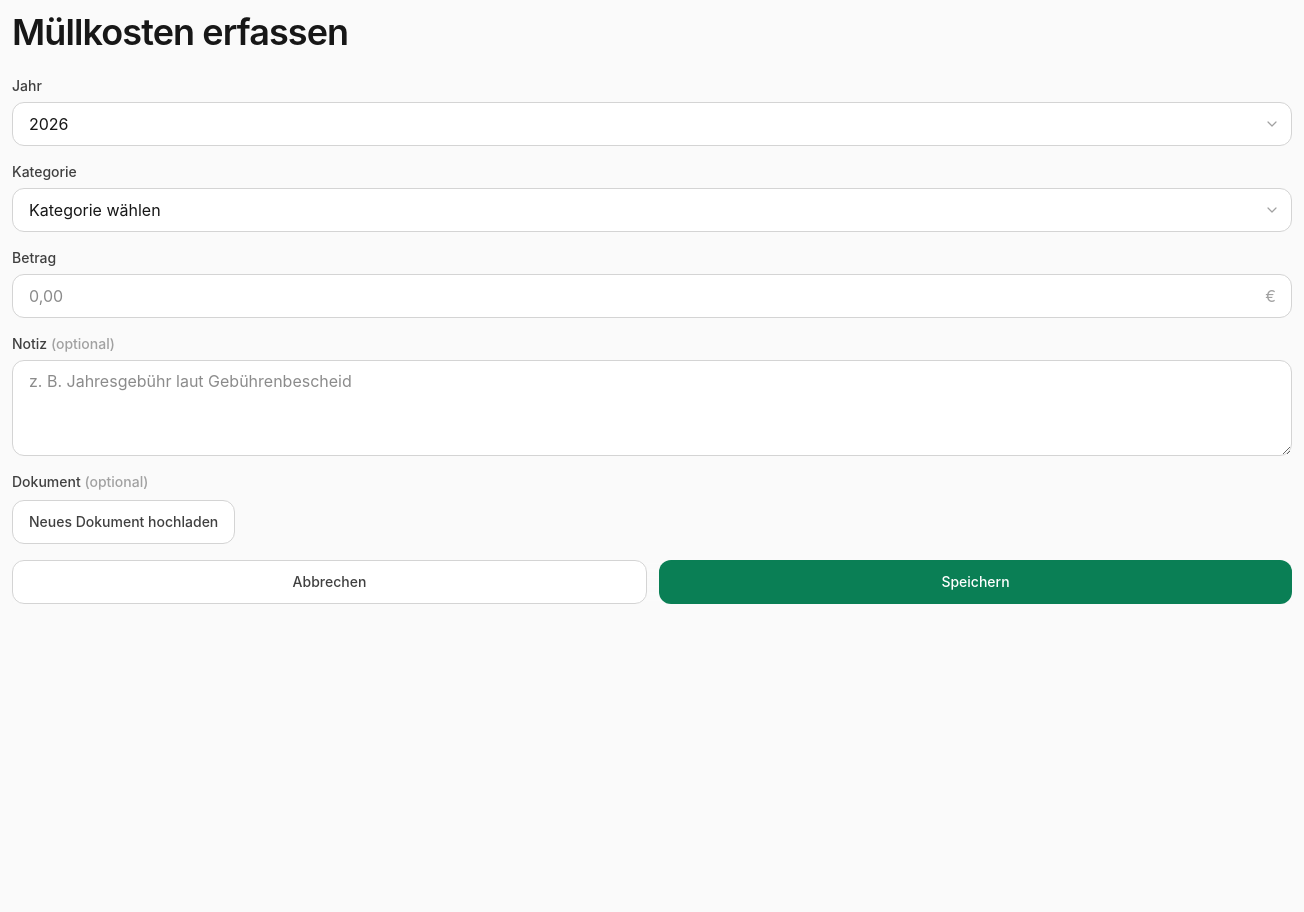
Scenario: WasteCostFormPage (create) › shows validation errors instead of saving when required fields are missing
Click the button "Speichern".
click(976, 582)  # box [659, 560, 1292, 604]
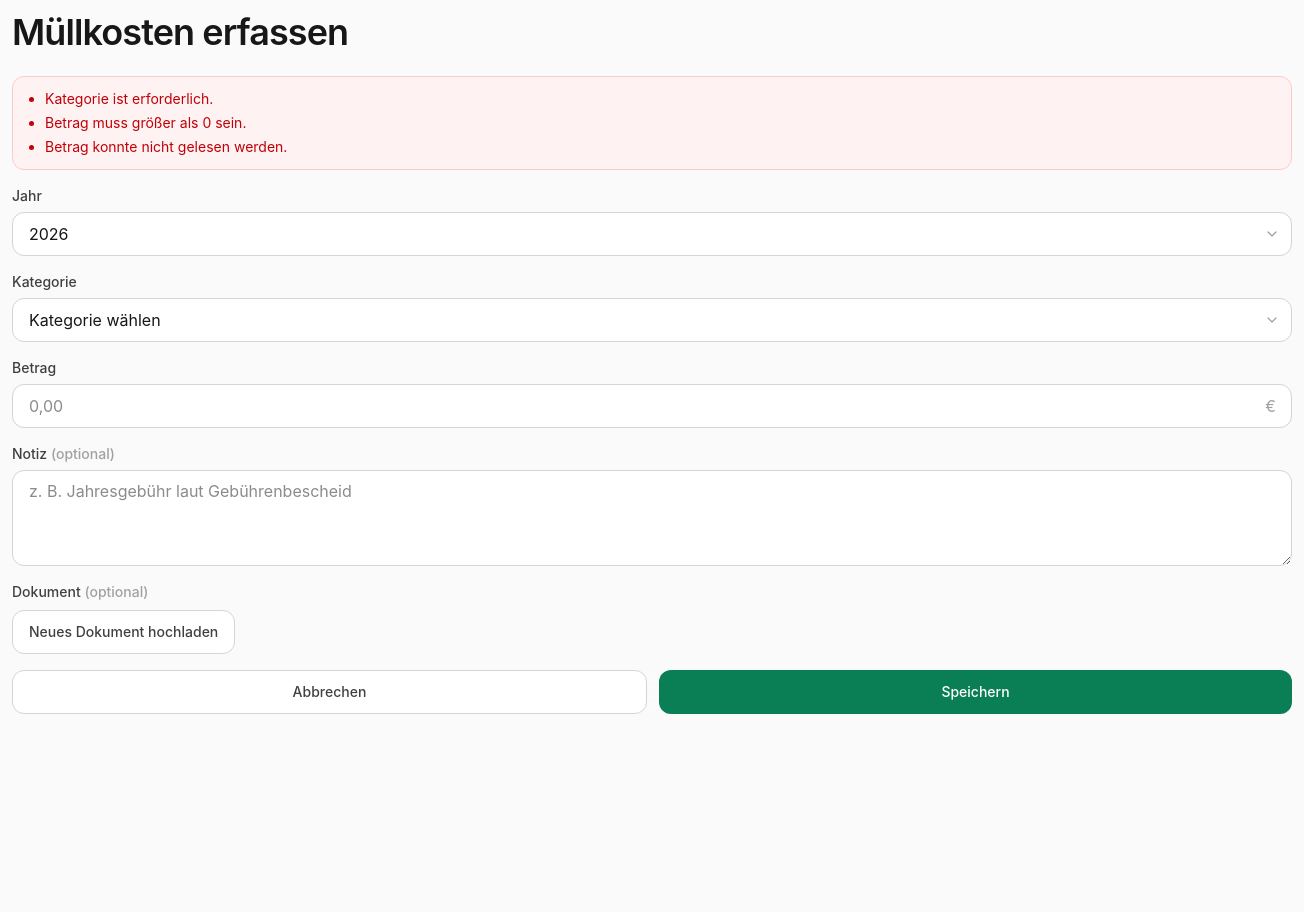
Expected: the message shows "Kategorie ist erforderlich.", [45, 90, 213, 107]
